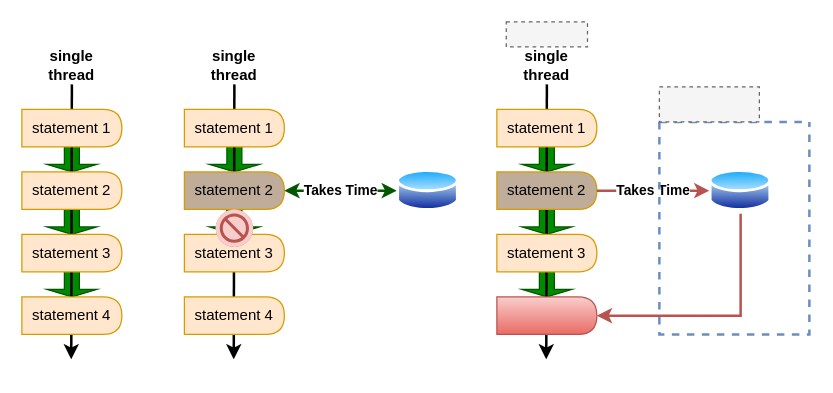
This 833x393 diagram has some shape labels left out. Here are the shapes that lost their labels. From the top down, the centre of each, then its label:
At [546,34]: "JS engine".
At [708,104]: "Other Part of Browser".
At [546,315]: "callback".
